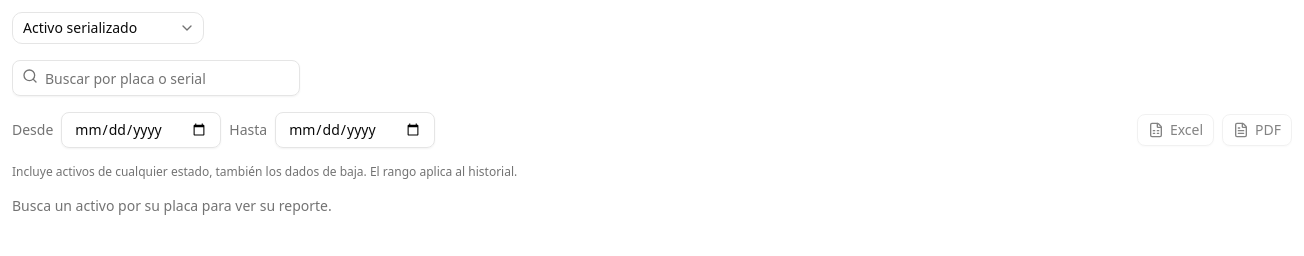
ArticleReportTab (008 US3, RN-033) › sin coincidencias en la búsqueda lo indica
This screenshot has width=1304, height=256.
Type "ZZZ" into the search field named "Buscar activo por placa".
click(156, 78); type("ZZZ")  # box [12, 60, 300, 96]
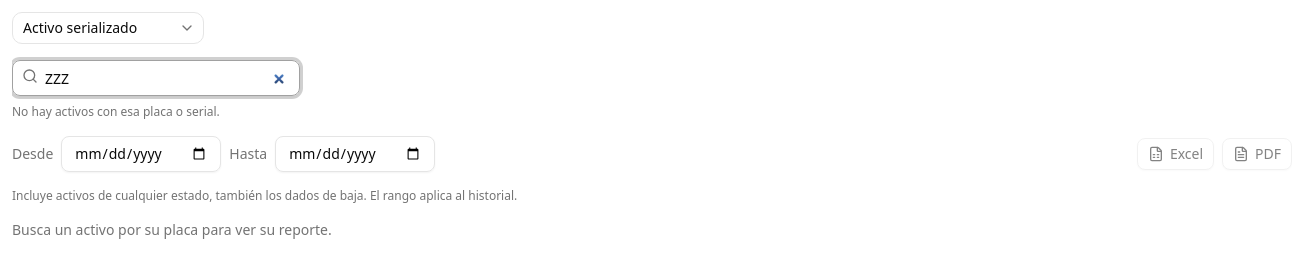
Expected: the text "No hay activos con esa placa o serial." is shown, [12, 103, 220, 120]
